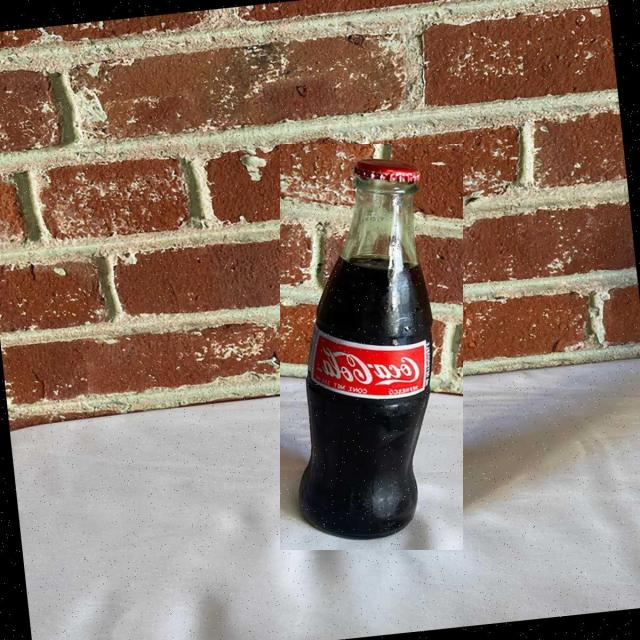coca-cola: (280, 144, 463, 550)
